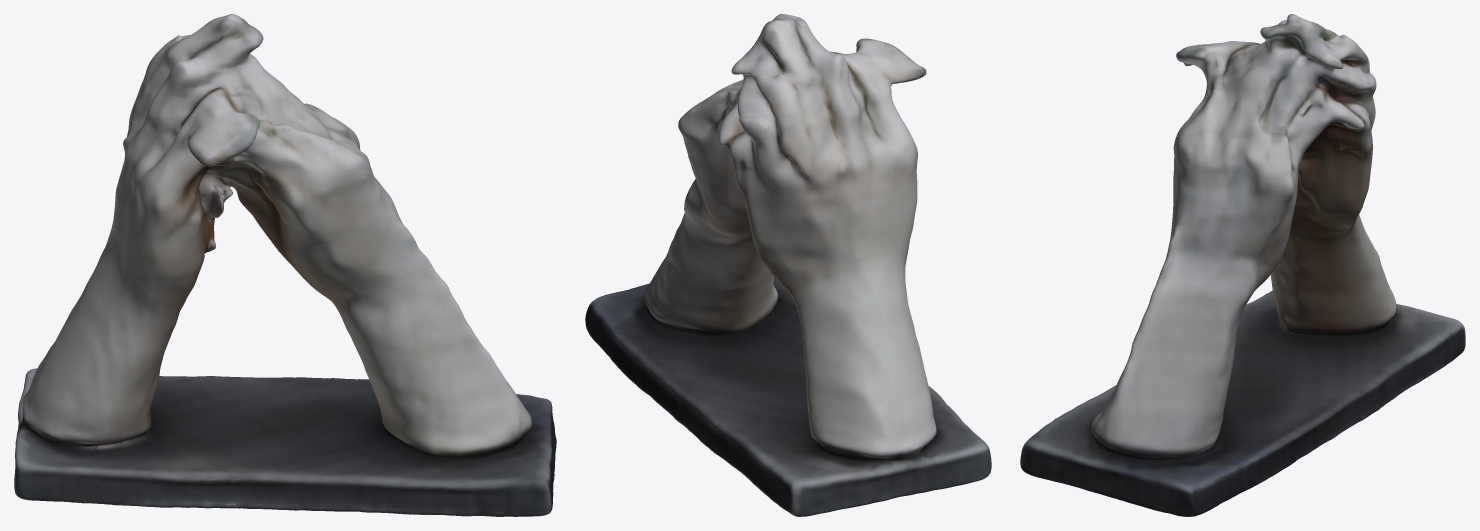
Rendered from 55435047f1dc_hands_sculpture__3d.fbx.
3 renders of one model, left to right at view 1: azimuth 30°, elevation 25°; view 2: azimuth 150°, elevation 25°; view 3: azimuth 270°, elevation 25°, orthographic. The views are drawn at different scales.
Visible parts, largest first — view 1: high_poly; view 2: high_poly; view 3: high_poly.
Boxes of the visible parts, x1,y1,x2,y2 form: high_poly: (14, 14, 556, 516); high_poly: (585, 14, 991, 516); high_poly: (1020, 14, 1465, 516).
Size of the model in its own units: 100 by 86.39 by 89.92.
